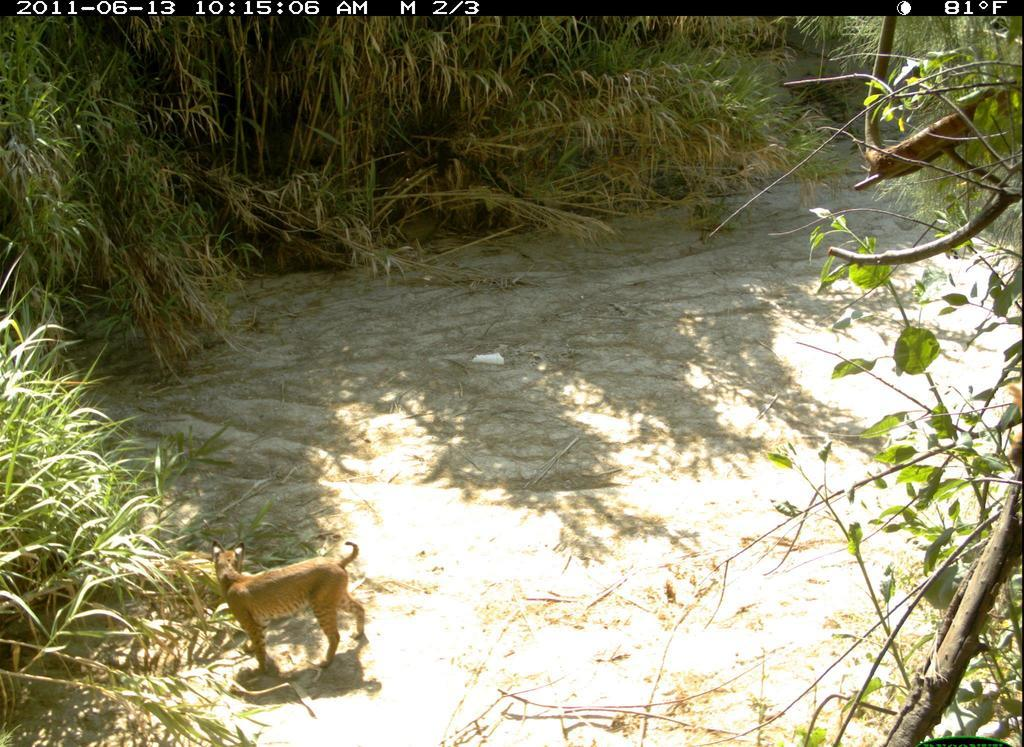bobcat: (208, 529, 396, 683)
